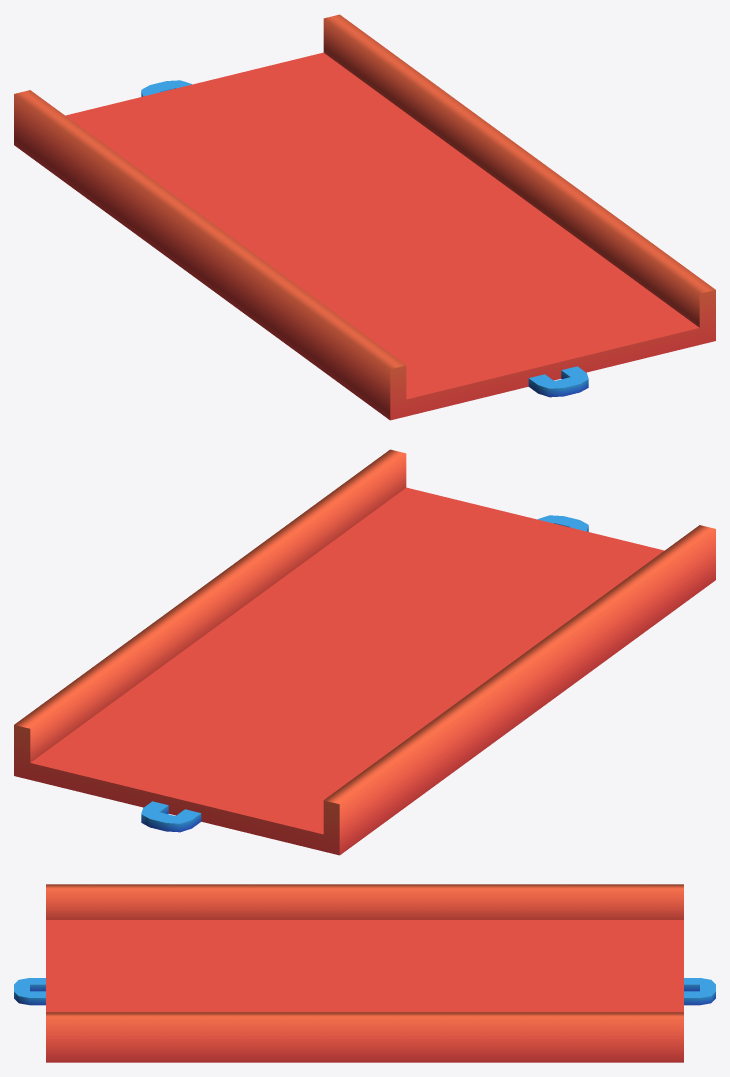
Rendered from track-wide-straight.fbx.
3 renders of one model, top to bottom at view 1: azimuth 30°, elevation 25°; view 2: azimuth 150°, elevation 25°; view 3: azimuth 270°, elevation 25°, orthographic. The views are drawn at different scales.
Parts seen in each view (by area): view 1: track-wide-straight; view 2: track-wide-straight; view 3: track-wide-straight.
Part boxes in pixels (<box>): track-wide-straight: <box>14,14,715,420</box>; track-wide-straight: <box>14,449,715,855</box>; track-wide-straight: <box>14,884,715,1062</box>.
Size of the model in its own units: 200 by 30 by 440.
